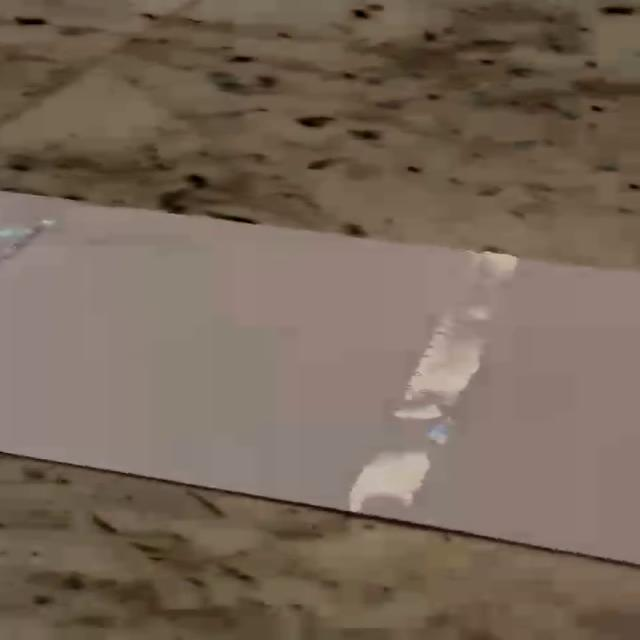road: (1, 192, 637, 562)
